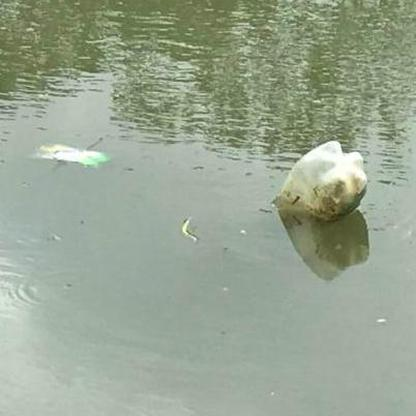plastic bottle: (271, 141, 368, 217)
